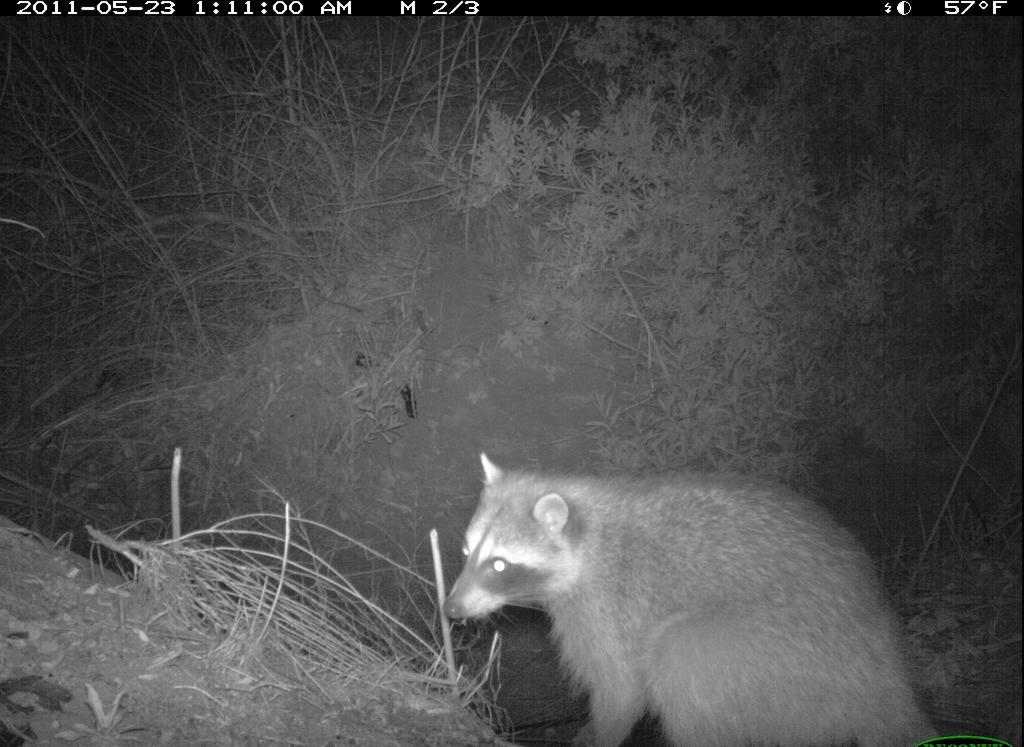raccoon: (434, 439, 954, 747)
